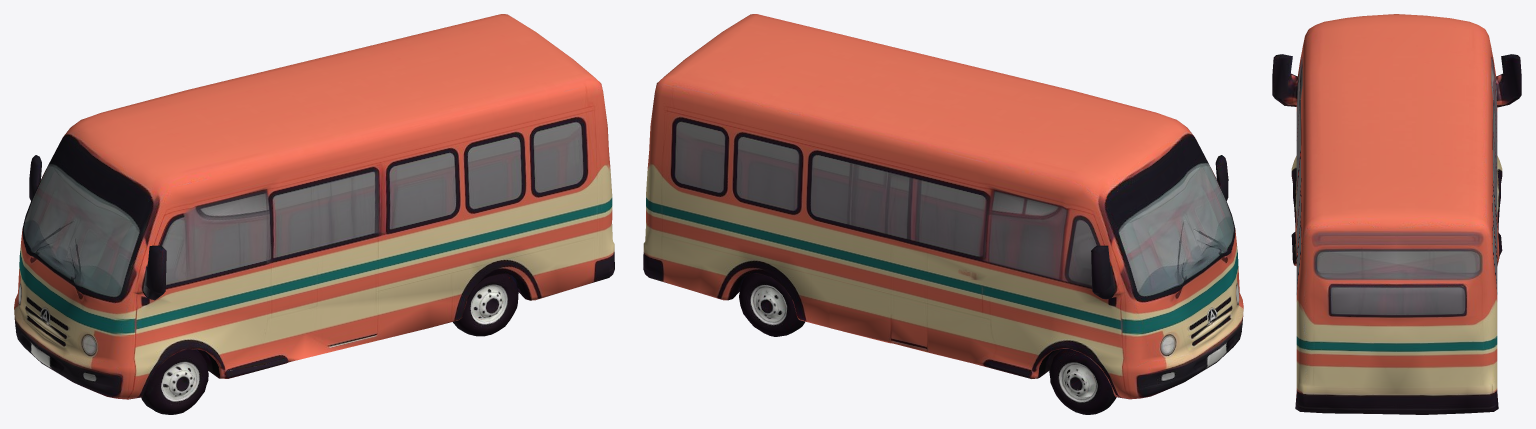
The model's file is starter-bus-03.glb.
3 views of the same model, side by side, from view 1: azimuth 30°, elevation 25°; view 2: azimuth 150°, elevation 25°; view 3: azimuth 270°, elevation 25° (orthographic). The views are drawn at different scales.
Visible parts, largest first — view 1: mesh_node; view 2: mesh_node; view 3: mesh_node.
Part boxes in pixels (<box>): mesh_node: <box>14,14,614,414</box>; mesh_node: <box>643,14,1243,414</box>; mesh_node: <box>1272,14,1521,414</box>.
Bounding box in the file's own units: 1.91 × 0.818 × 0.8102.
1 material, 1 textured.
